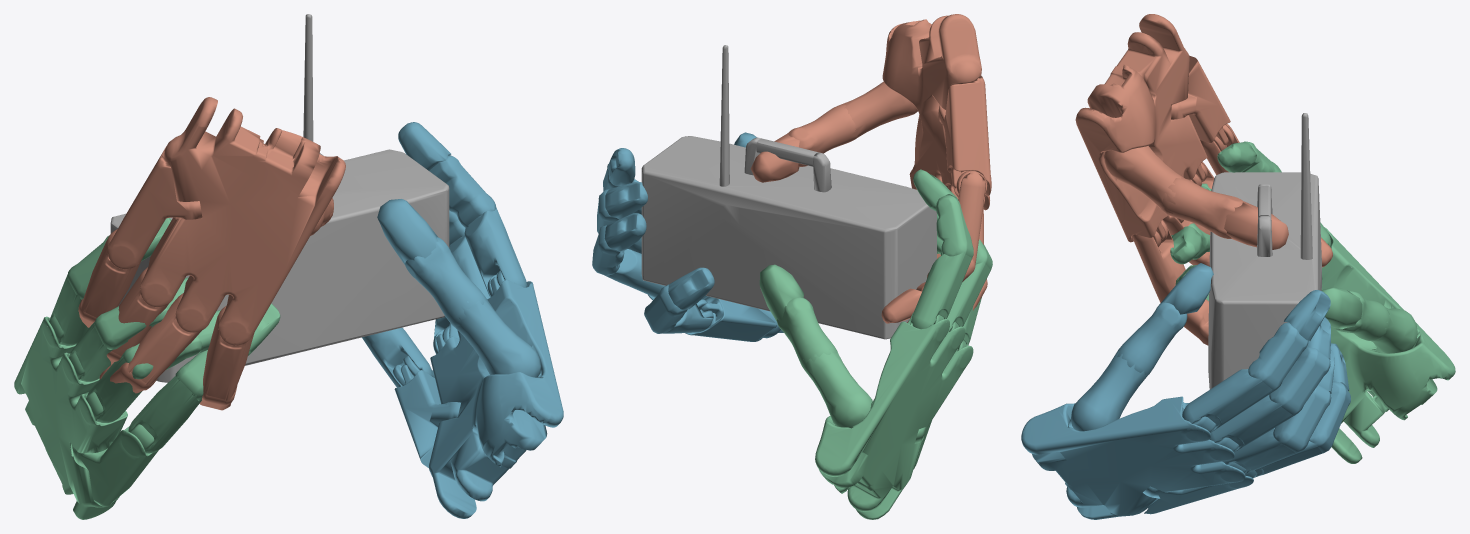
3 renders of one model, left to right at view 1: azimuth 30°, elevation 25°; view 2: azimuth 150°, elevation 25°; view 3: azimuth 270°, elevation 25°, orthographic. The views are drawn at different scales.
Size of the model in its own units: 0.2432 by 0.2729 by 0.2375.
